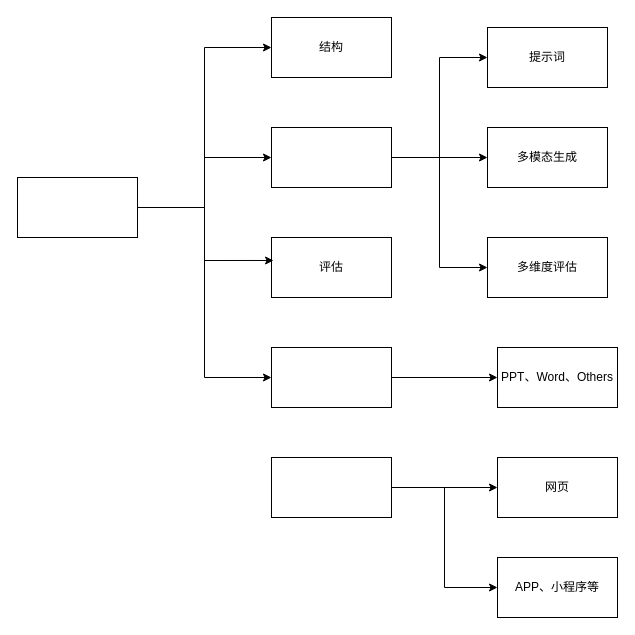
Some shapes in this 635 by 635 pixel diagram are drawn without their labels. Here are the shapes that lost their labels. From the top down, the centre of each, then its label:
At (331,157): "子结构".
At (77,207): "目标：教案".
At (331,377): "生成".
At (331,487): "应用入口".
